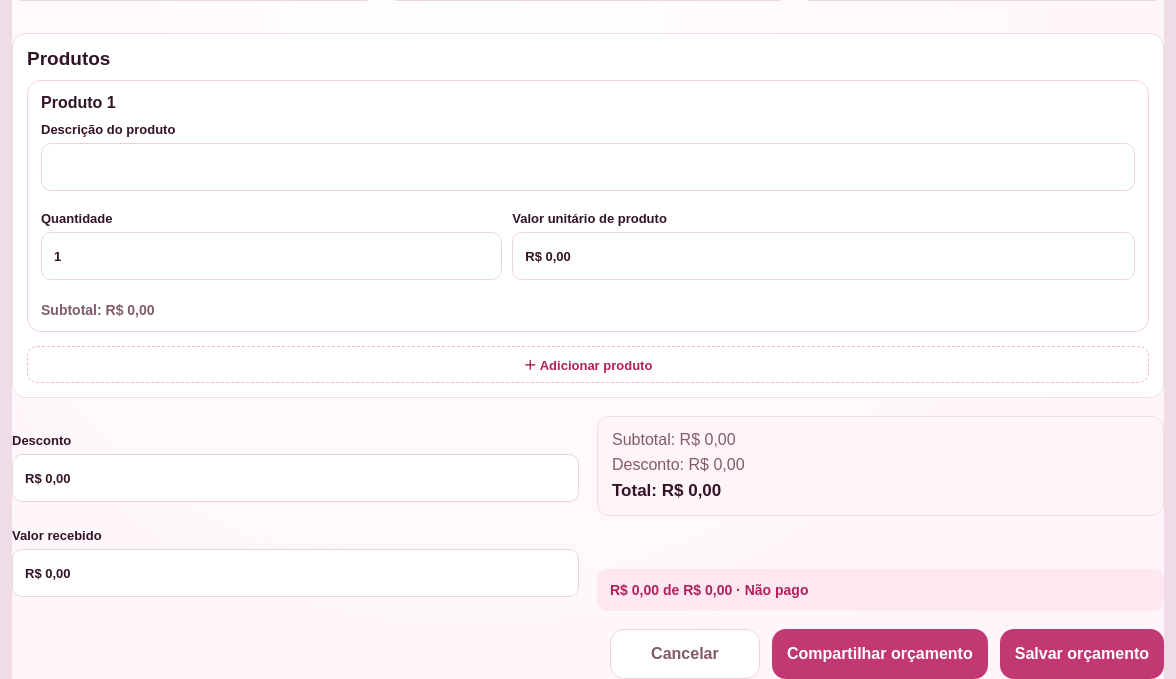
QuoteEditor › impede o compartilhamento de um orçamento sem produtos válidos
The width and height of the screenshot is (1176, 679).
(page scrolled)
Click the button "Compartilhar orçamento" at [880, 654], box [772, 629, 988, 678]
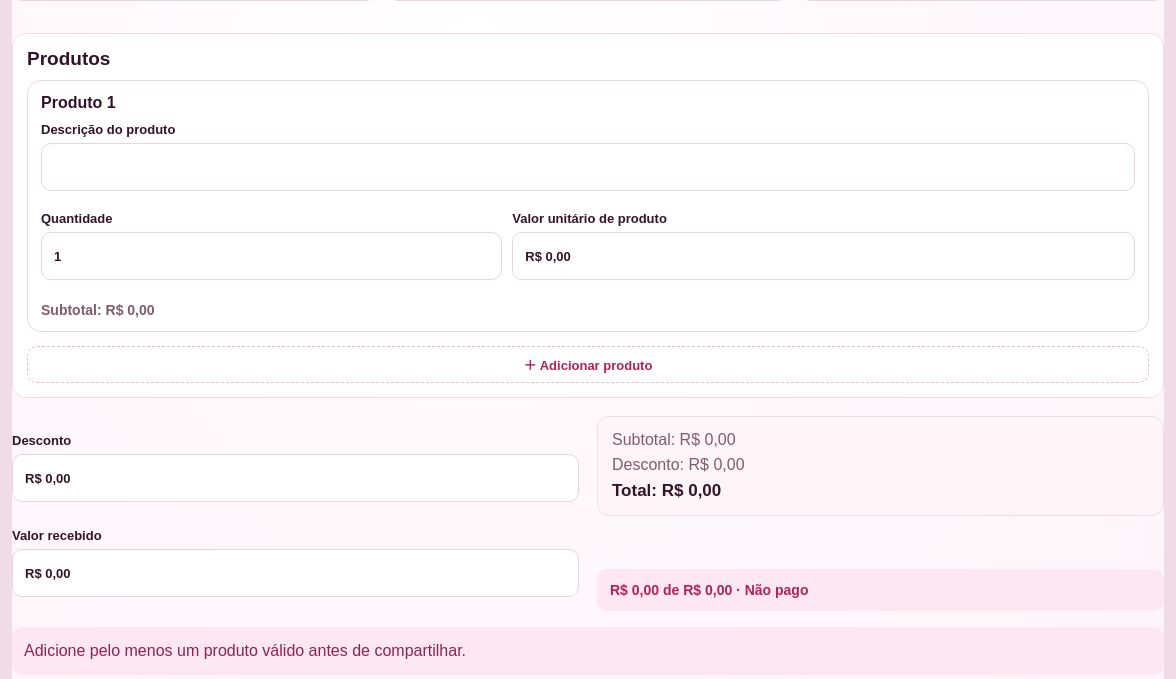
Expected: the message reads "Adicione pelo menos um produto válido antes de compartilhar.", [24, 642, 466, 659]
